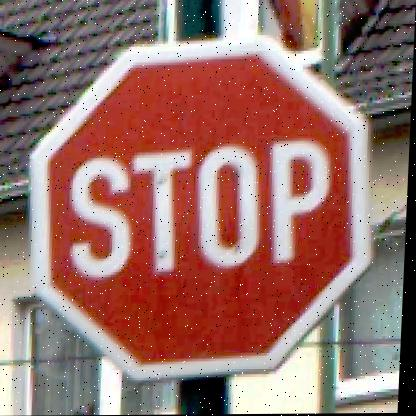Stop Sign: (21, 31, 384, 385)
